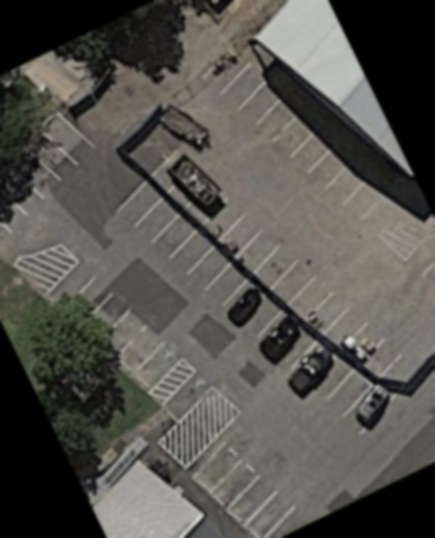parkingspot: (112, 176, 406, 437), (199, 41, 398, 225), (198, 195, 372, 350), (43, 257, 185, 393), (187, 435, 315, 538), (0, 109, 99, 236), (160, 367, 217, 423), (402, 226, 435, 292), (371, 377, 375, 381)
